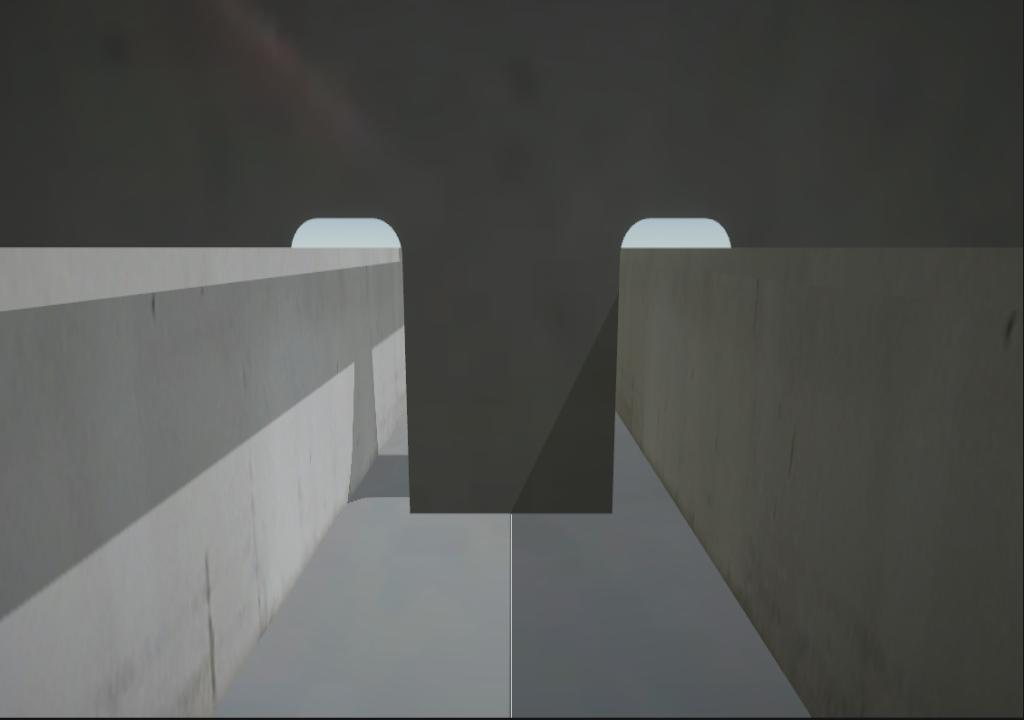fillet_yong_jeop_jang: (398, 483, 626, 530)
